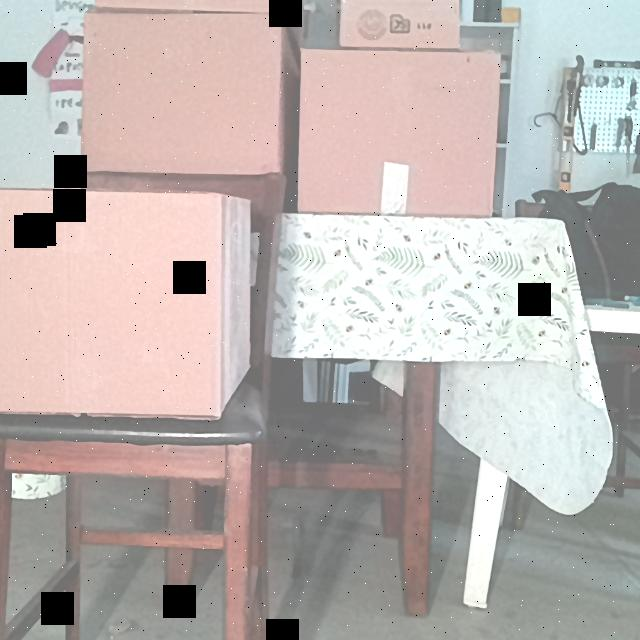box: (0, 193, 223, 413), (297, 49, 496, 213), (83, 13, 281, 175), (339, 0, 461, 47), (92, 0, 297, 13)
